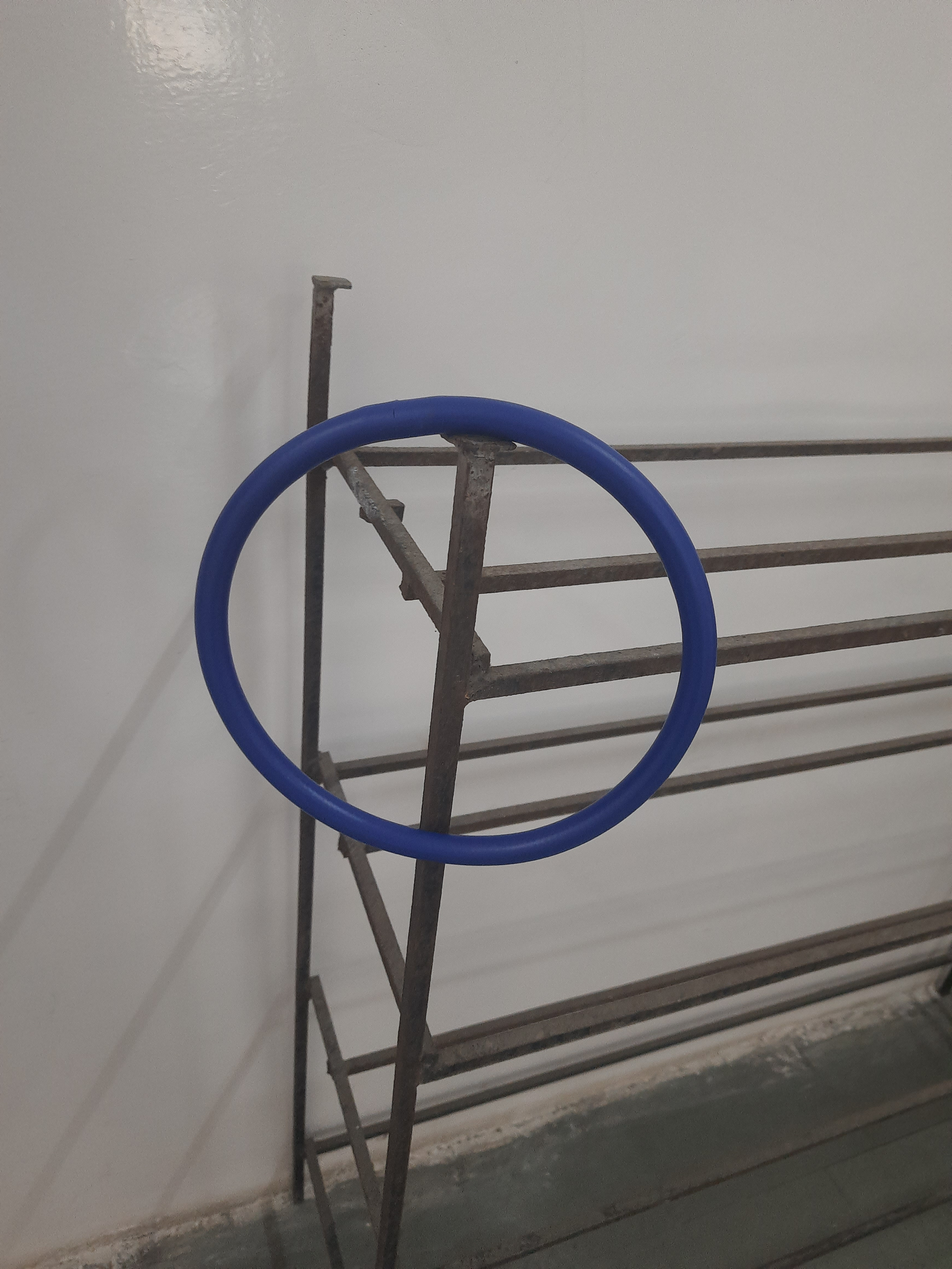Blue ring: (190, 400, 714, 869)
